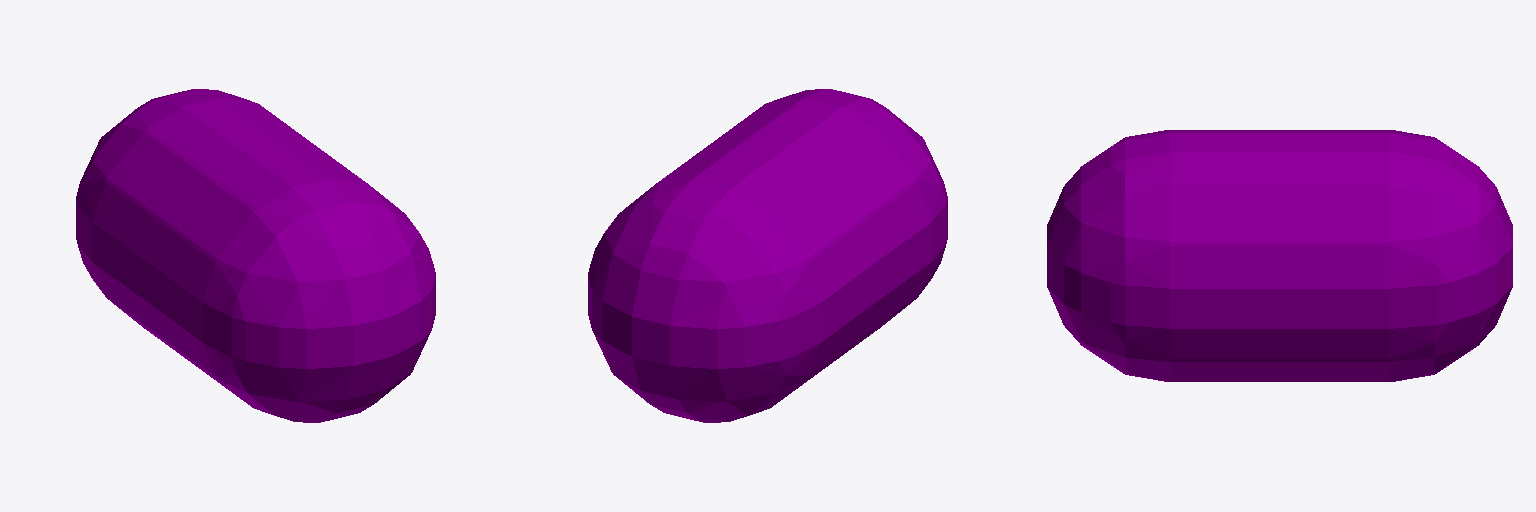
The model's file is Player.obj.
The picture shows the model from 3 angles: view 1: azimuth 30°, elevation 25°; view 2: azimuth 150°, elevation 25°; view 3: azimuth 270°, elevation 25°; orthographic projection.
Parts seen in each view (by area): view 1: Mball_Mball.002; view 2: Mball_Mball.002; view 3: Mball_Mball.002.
Boxes of the visible parts, x1=… form: Mball_Mball.002: x1=76, y1=89, x2=435, y2=422; Mball_Mball.002: x1=588, y1=89, x2=947, y2=422; Mball_Mball.002: x1=1047, y1=130, x2=1512, y2=381.
Size of the model in its own units: 0.5731 by 0.5731 by 1.07.